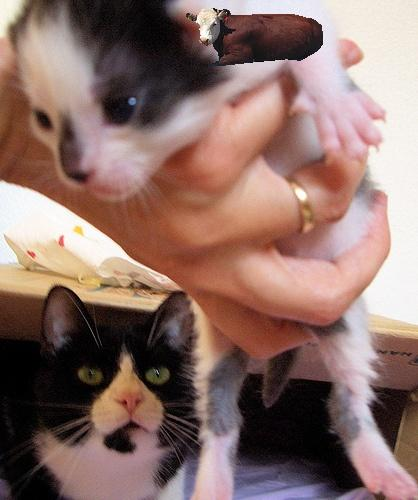tampered: (187, 9, 323, 66)
